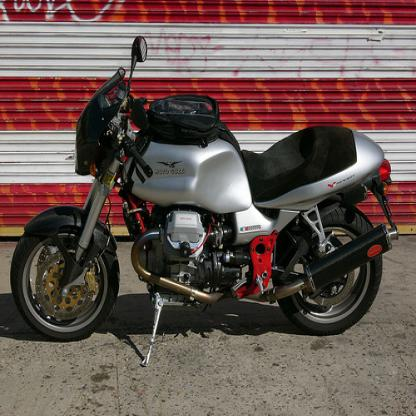motorbike: (10, 34, 400, 363)
